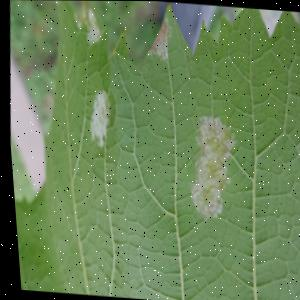Folha: (0, 0, 300, 300)
Fungo: (181, 114, 240, 223), (85, 89, 112, 150)
